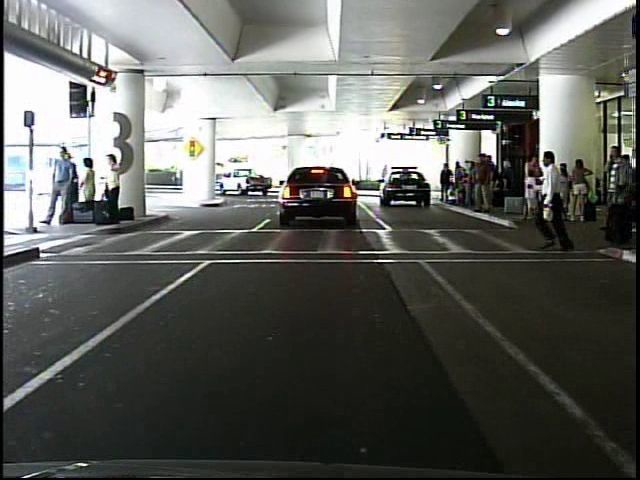person: (533, 142, 588, 259), (44, 143, 77, 229), (79, 154, 103, 223), (106, 149, 126, 226), (437, 163, 454, 207), (173, 164, 185, 189)
